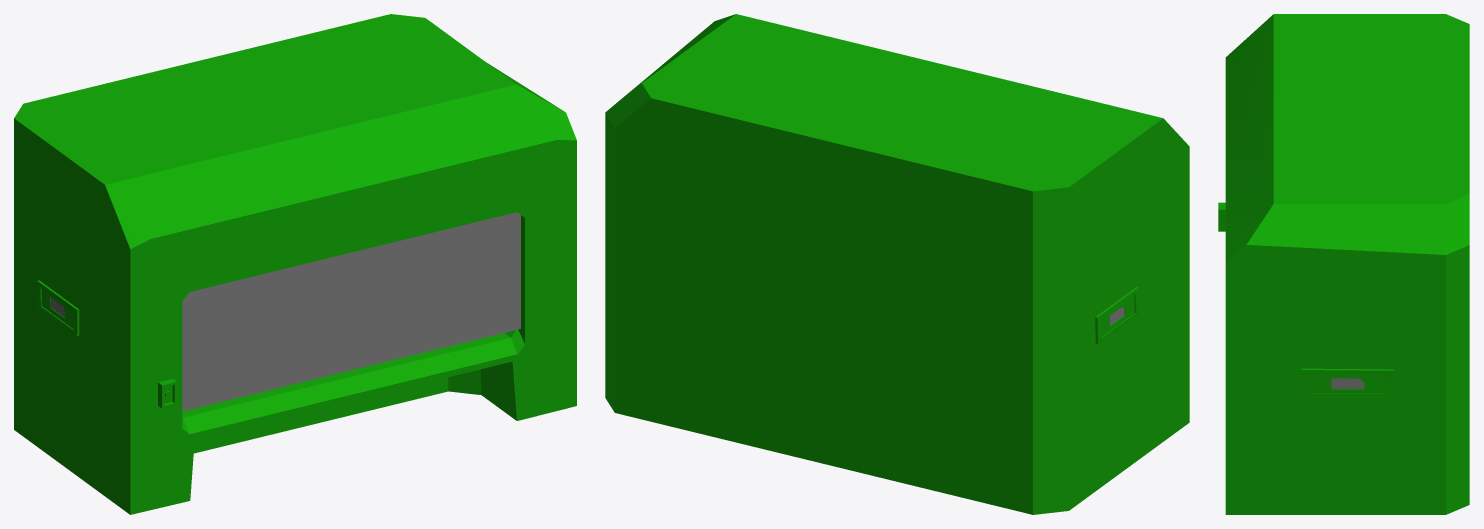
The model's file is pailasse_lp.fbx.
The picture shows the model from 3 angles, left to right: view 1: azimuth 30°, elevation 25°; view 2: azimuth 150°, elevation 25°; view 3: azimuth 270°, elevation 25°; orthographic projection. The views are drawn at different scales.
Visible parts, largest first — view 1: Box001, Box002; view 2: Box001; view 3: Box001, Box002.
Part boxes in pixels (<box>): Box001: <box>14,14,576,514</box>; Box002: <box>51,212,520,411</box>; Box001: <box>605,14,1189,514</box>; Box001: <box>1218,14,1469,514</box>; Box002: <box>1331,378,1364,388</box>.
Bounding box in the file's own units: 303 × 200 × 155.
